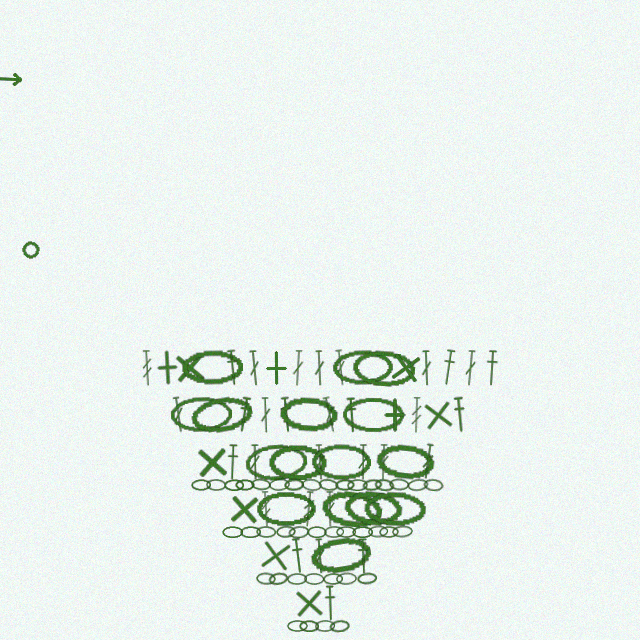chain: (188, 392, 255, 438), (308, 533, 373, 578), (319, 487, 384, 530), (374, 441, 437, 483), (351, 348, 416, 388), (342, 488, 405, 529), (244, 442, 308, 482), (278, 395, 340, 434), (363, 490, 426, 528), (170, 396, 232, 433), (181, 349, 243, 386), (332, 349, 394, 386), (342, 397, 405, 433), (311, 443, 371, 480), (256, 491, 317, 527), (268, 444, 328, 480), (268, 571, 289, 586), (288, 525, 310, 539), (407, 478, 429, 492), (329, 619, 350, 633), (301, 478, 322, 492), (318, 478, 339, 492), (362, 478, 383, 492), (374, 478, 395, 492), (423, 478, 444, 492), (336, 572, 357, 585), (392, 525, 413, 538), (269, 478, 290, 491), (256, 572, 276, 585), (357, 572, 377, 585), (276, 525, 296, 538), (368, 525, 388, 538), (251, 478, 271, 491), (284, 478, 304, 491), (389, 478, 409, 491), (287, 620, 308, 632), (222, 526, 243, 538), (240, 526, 261, 538), (352, 526, 373, 538), (347, 479, 368, 491), (299, 620, 319, 632), (315, 620, 335, 632), (287, 573, 307, 585), (304, 573, 324, 585), (323, 573, 343, 585), (256, 526, 276, 538), (307, 526, 327, 538), (324, 526, 344, 538), (336, 526, 356, 538), (379, 526, 399, 538), (191, 479, 211, 491), (206, 479, 226, 491), (224, 479, 244, 491), (235, 479, 255, 491), (335, 479, 355, 491)
double: (320, 396, 339, 433), (170, 396, 187, 433), (420, 443, 436, 480), (333, 349, 348, 386), (247, 350, 262, 386), (463, 350, 478, 386), (313, 538, 327, 574), (313, 444, 327, 480), (291, 350, 305, 386), (377, 444, 390, 480), (259, 397, 272, 433), (313, 350, 326, 386), (420, 350, 433, 386), (324, 491, 336, 527), (249, 444, 261, 480), (357, 444, 369, 480)
half_double: (439, 349, 458, 386), (289, 537, 307, 574), (235, 396, 253, 433), (278, 396, 295, 433), (451, 396, 468, 433), (224, 349, 241, 386), (484, 350, 500, 386), (225, 444, 240, 480), (344, 397, 359, 433), (323, 585, 337, 621), (356, 538, 370, 574)
noise: (19, 238, 42, 261), (0, 70, 24, 87)
single: (255, 535, 296, 576), (385, 347, 426, 388), (418, 395, 458, 435), (170, 348, 209, 387), (290, 584, 328, 622), (225, 490, 263, 528), (193, 443, 231, 481), (149, 349, 186, 386), (377, 397, 413, 433), (258, 350, 294, 386)
treble: (301, 491, 316, 527), (259, 491, 273, 527), (140, 350, 154, 386), (410, 397, 423, 433)
